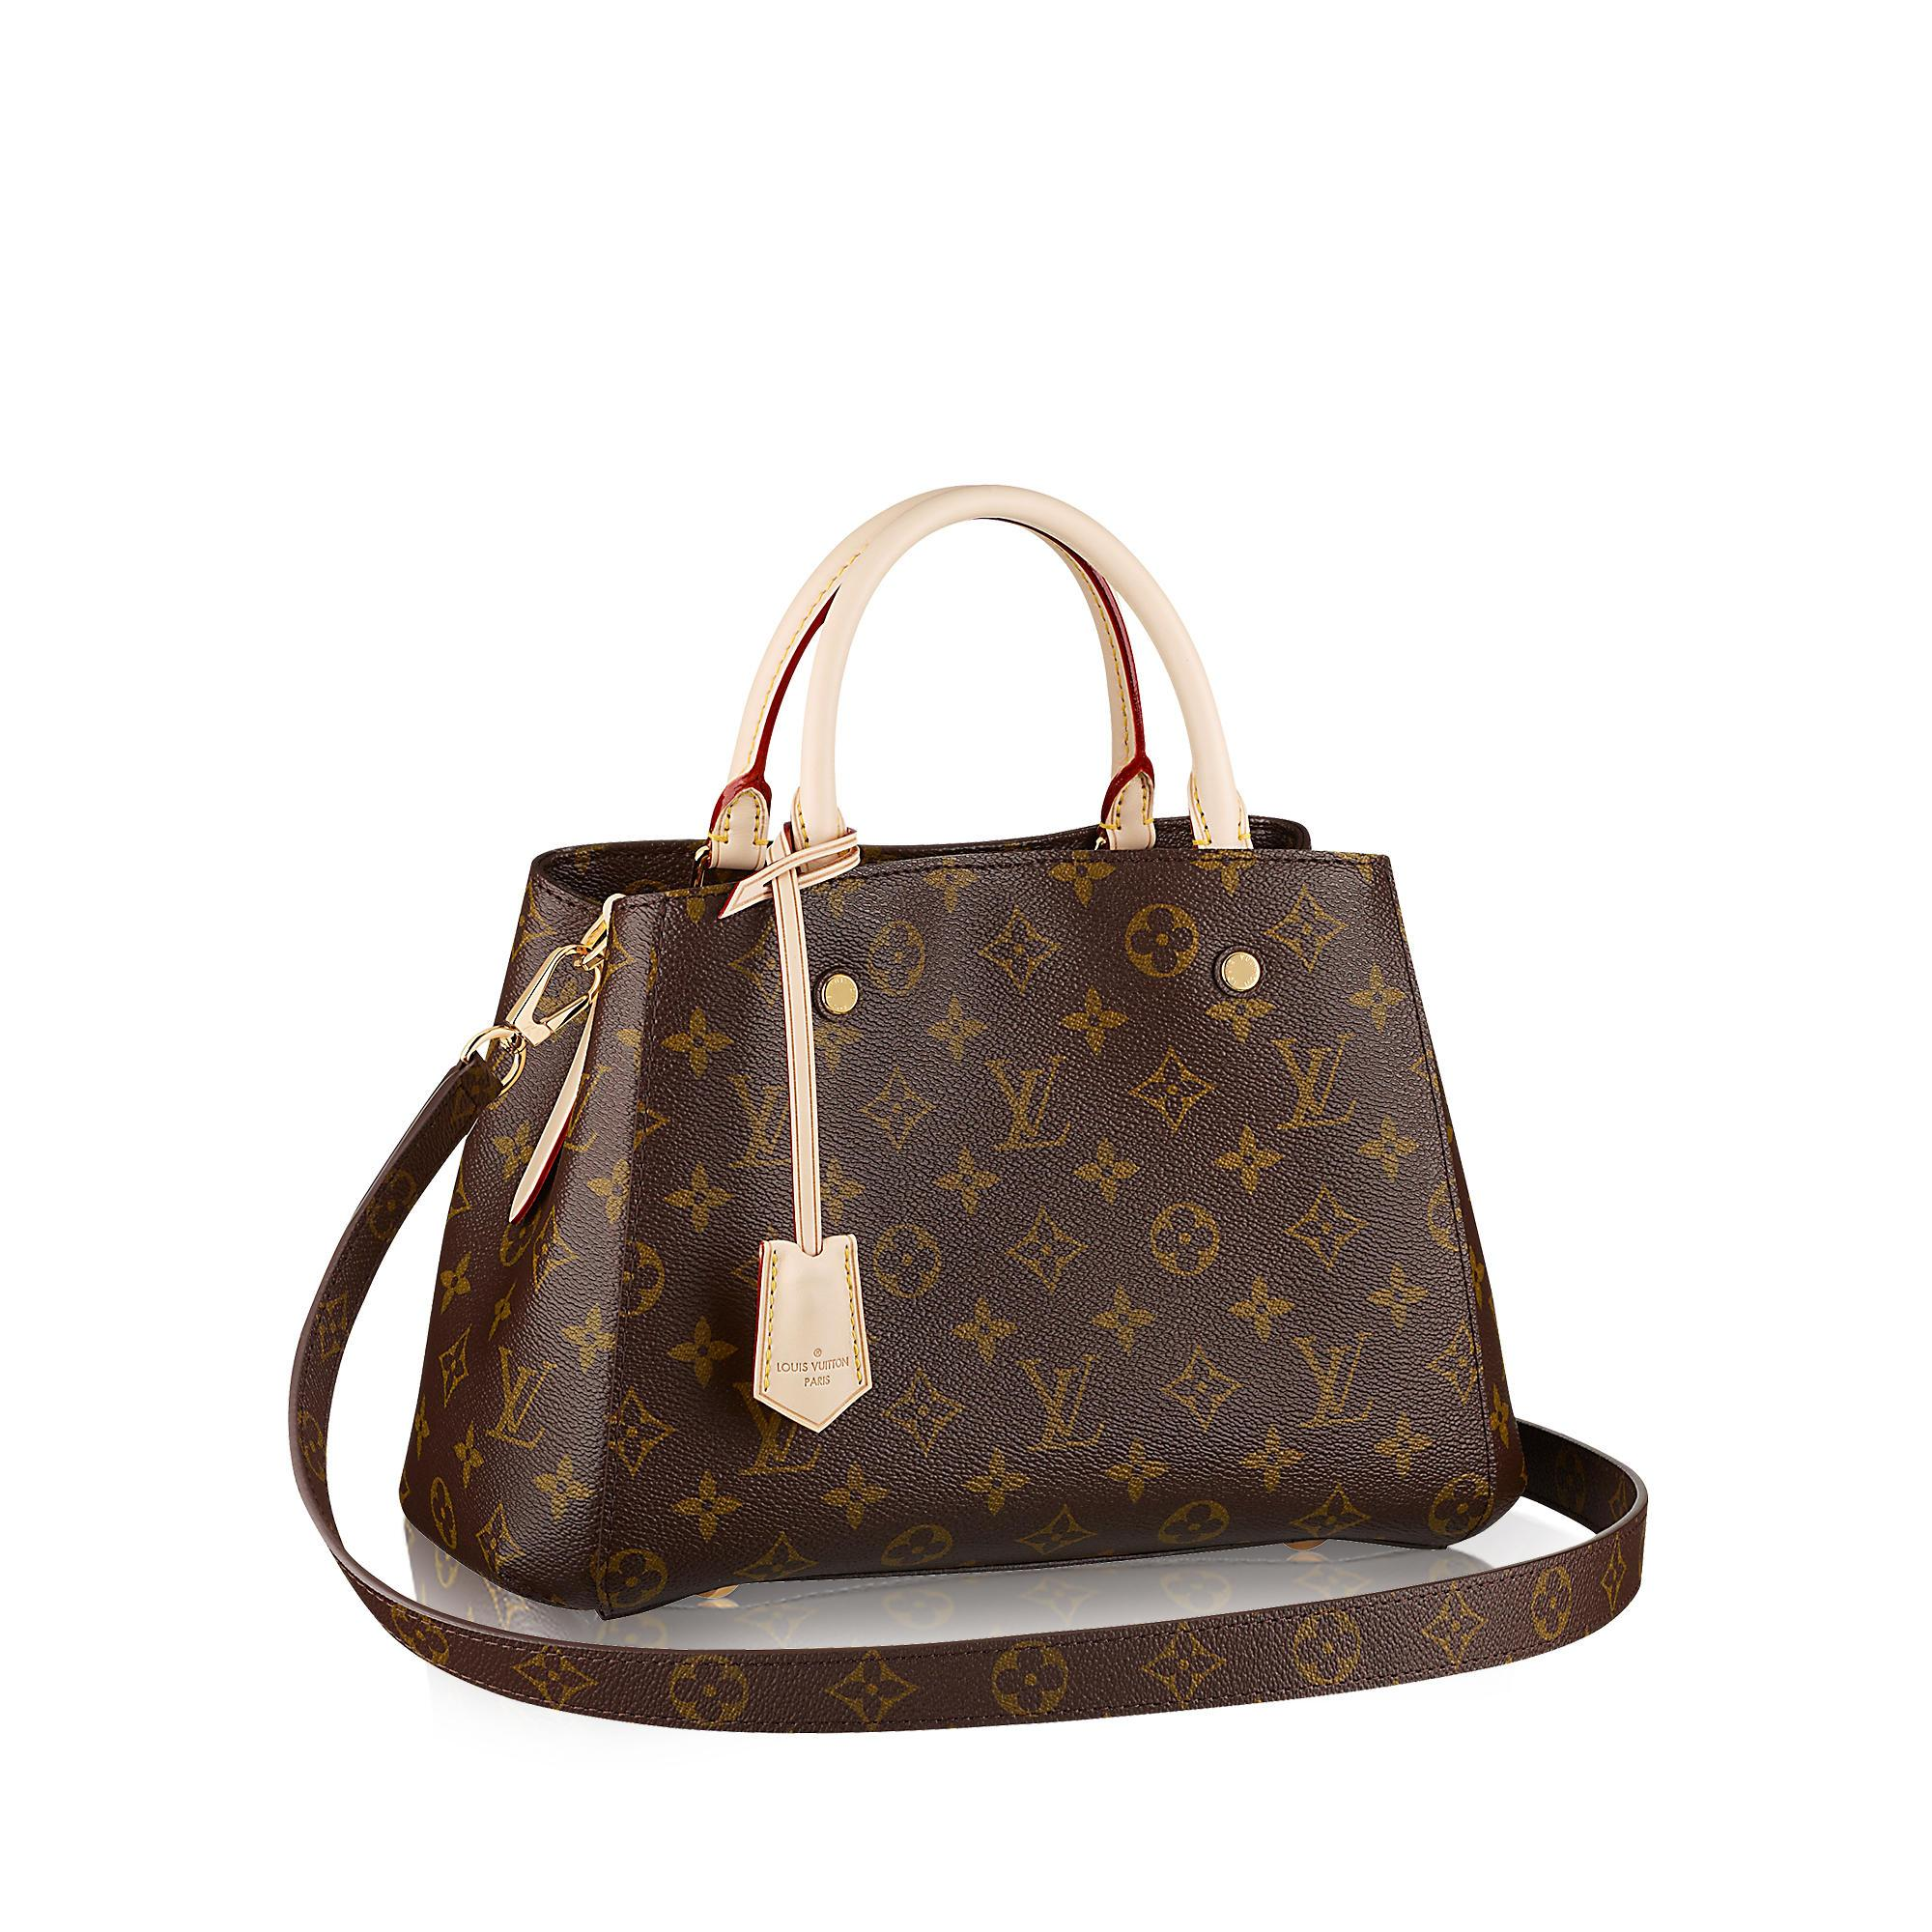LOUIS-VUITTON: (973, 1053, 1077, 1148), (1012, 1355, 1113, 1449), (1292, 1327, 1376, 1433), (1274, 1035, 1361, 1131), (741, 1376, 816, 1479), (487, 1345, 554, 1456), (727, 1074, 796, 1171)
